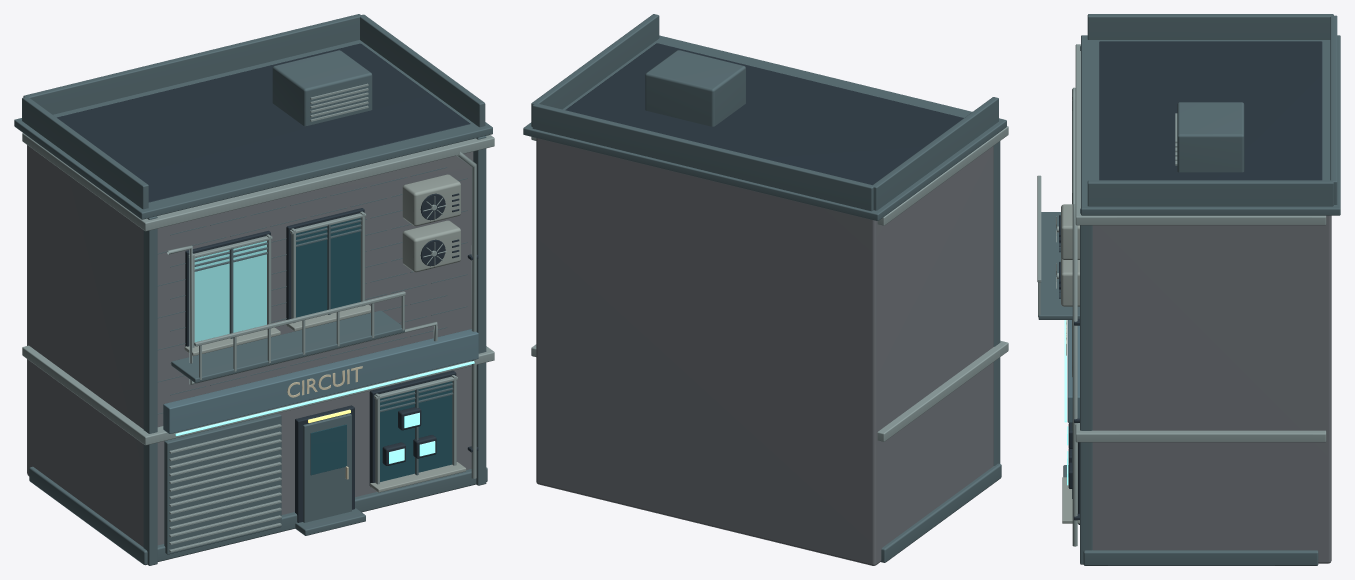
The model's file is circuit_repair.glb.
3 renders of one model, left to right at view 1: azimuth 30°, elevation 25°; view 2: azimuth 150°, elevation 25°; view 3: azimuth 270°, elevation 25°, orthographic.
Parts seen in each view (by area): view 1: Brick, Steel, Ink, Edge, Glass, Blue, Plaster, WindowCool, Cyan, Cream; view 2: Brick, Steel, Ink, Edge; view 3: Brick, Steel, Ink, Edge, Plaster, Blue, Cyan.
Part boxes in pixels (<box>): Brick: <box>27,145,473,547</box>; Steel: <box>14,14,492,565</box>; Ink: <box>57,43,478,522</box>; Edge: <box>22,83,494,552</box>; Glass: <box>296,218,452,481</box>; Blue: <box>163,329,478,433</box>; Plaster: <box>184,174,466,492</box>; WindowCool: <box>194,241,266,342</box>; Cyan: <box>175,361,474,463</box>; Cream: <box>287,366,362,479</box>; Brick: <box>536,138,993,565</box>; Steel: <box>523,14,1006,562</box>; Ink: <box>565,43,963,184</box>; Edge: <box>531,126,1008,441</box>; Brick: <box>1092,215,1331,563</box>; Steel: <box>1038,14,1340,565</box>; Ink: <box>1059,41,1322,524</box>; Edge: <box>1037,44,1326,546</box>; Plaster: <box>1061,204,1079,523</box>; Blue: <box>1067,320,1079,422</box>; Cyan: <box>1064,320,1068,485</box>.
Size of the model in its own units: 9.2 by 9.8 by 6.78.
